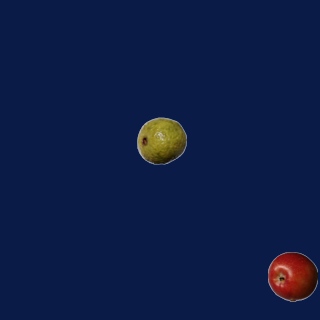Apple Braeburn: (267, 251, 317, 301)
Guava: (136, 115, 186, 165)
